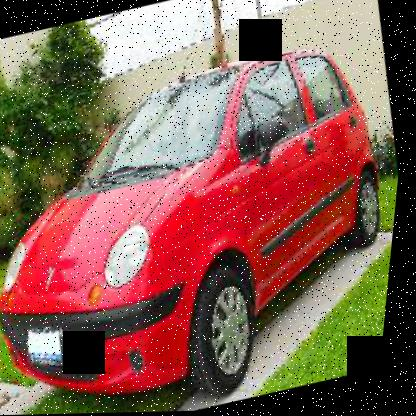not_emergency: (0, 33, 412, 415)
